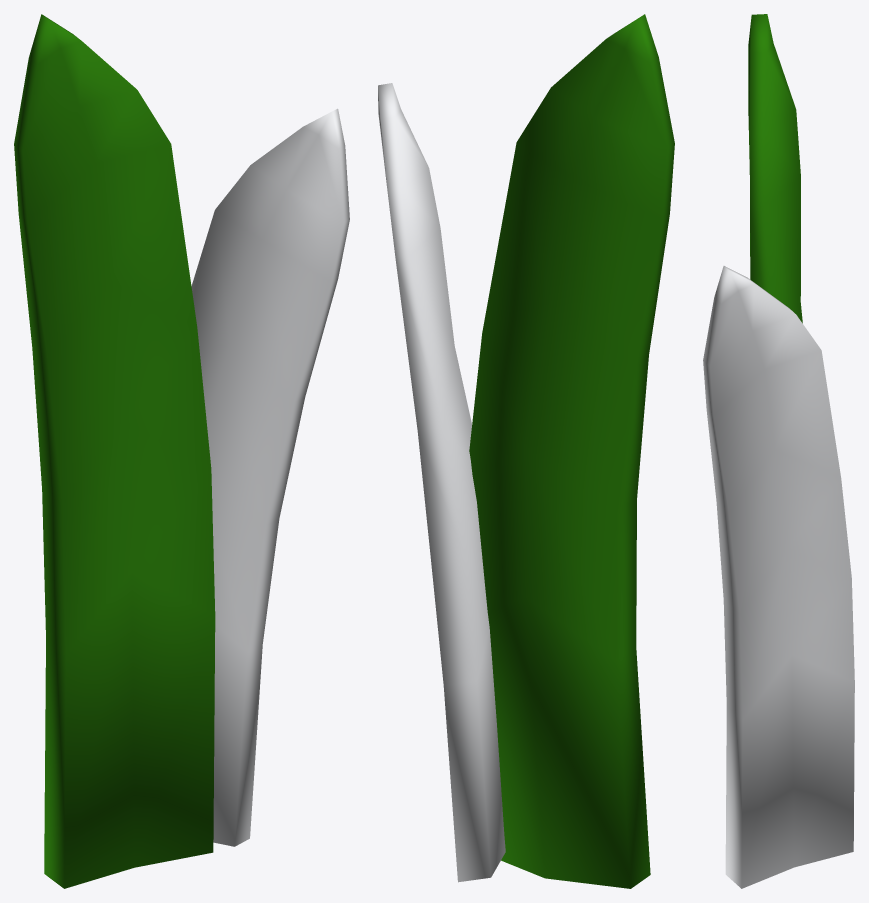
The model's file is grass-14_col.fbx.
The picture shows the model from 3 angles, left to right: view 1: azimuth 30°, elevation 25°; view 2: azimuth 150°, elevation 25°; view 3: azimuth 270°, elevation 25°; orthographic projection. The views are drawn at different scales.
Parts seen in each view (by area): view 1: grass-14.col; view 2: grass-14.col; view 3: grass-14.col.
Boxes of the visible parts, x1,y1,x2,y2 form: grass-14.col: (14, 14, 349, 888); grass-14.col: (378, 14, 674, 888); grass-14.col: (703, 14, 854, 888).
Size of the model in its own units: 0.0311 by 0.0835 by 0.0146.
1 material, 1 textured.
